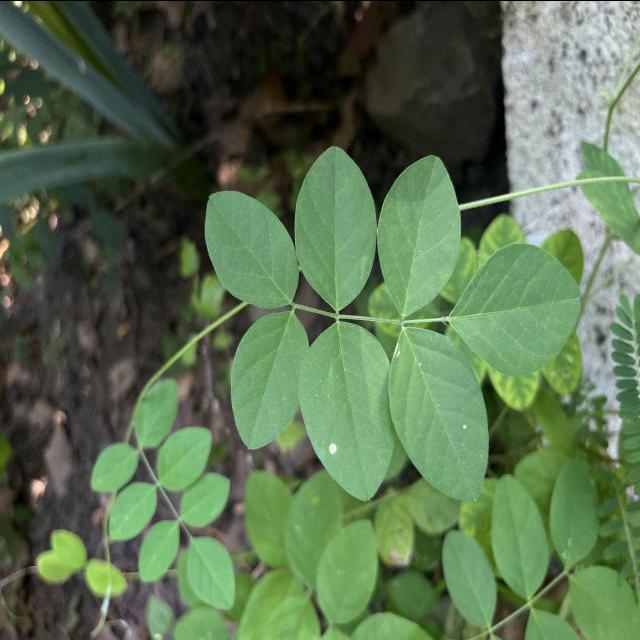Clitoria ternatea: (296, 318, 396, 502), (446, 242, 582, 377), (388, 324, 490, 502), (294, 143, 378, 310), (377, 152, 462, 316), (203, 189, 300, 309), (229, 308, 310, 449)
